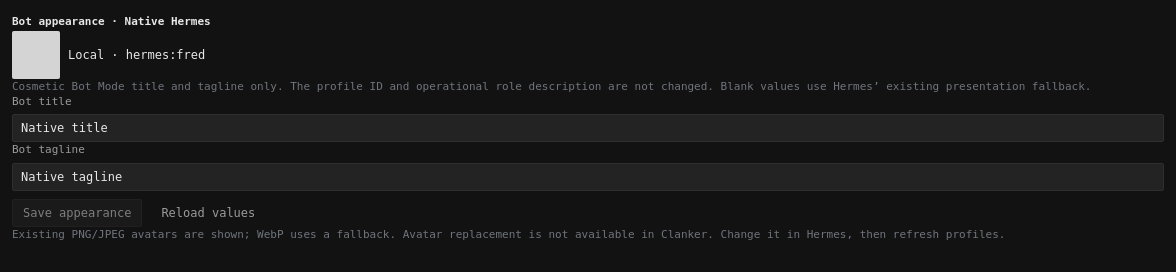
Test: reads selected native cosmetics, displays source identity/avatar and writes only title/tagline with the opaque baseline
Check: the text "Local · hermes:fred" is shown, box [68,46,205,64]
Check: the text "operational role description are not changed" is shown, box [12,80,1092,92]
Step 1. Replace the text in the field labelled "Bot title" with "New title" → (588,128), box [12,114,1164,142]
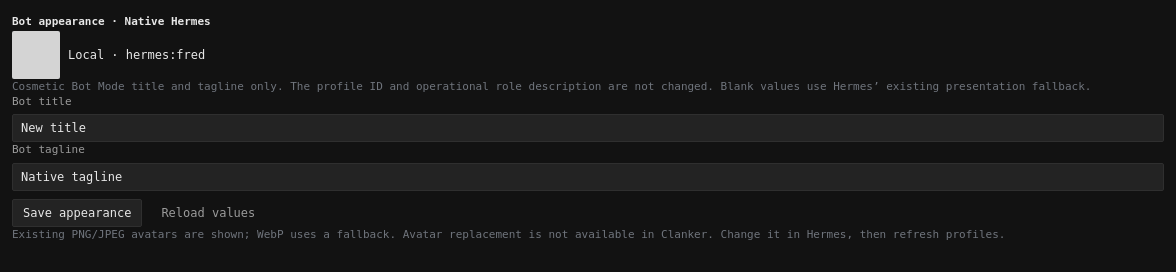
Step 2. Replace the text in the field labelled "Bot tagline" with "New tagline" → (588,177), box [12,163,1164,191]
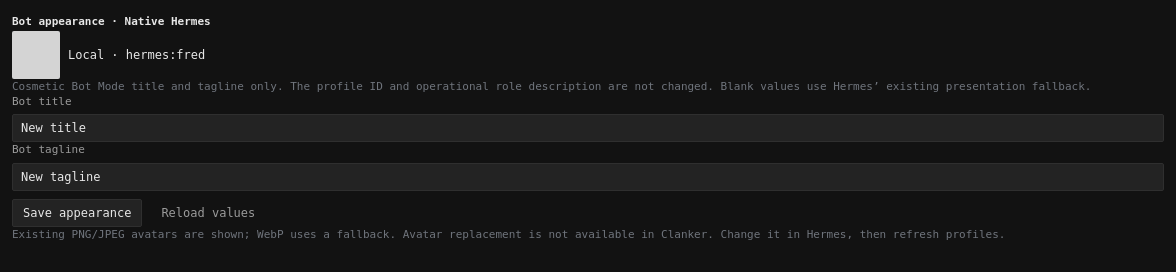
Step 3. Click the button "Save appearance" → (77,213), box [12,199,142,227]
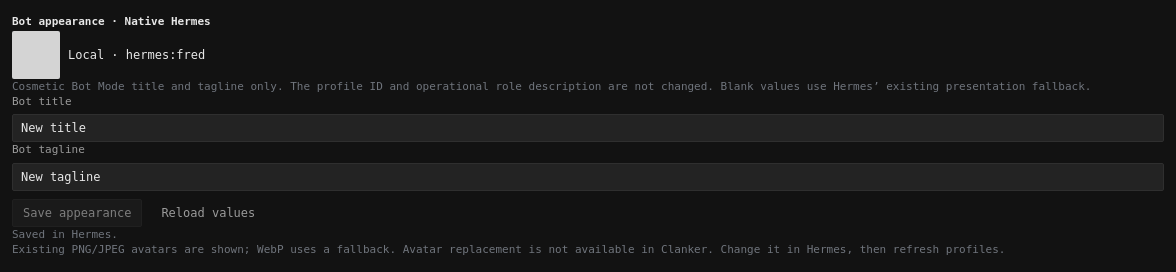
Check: the text "Saved in Hermes." is shown, box [12,228,118,241]
Check: the button "Save appearance" is disabled, box [12,199,142,227]
